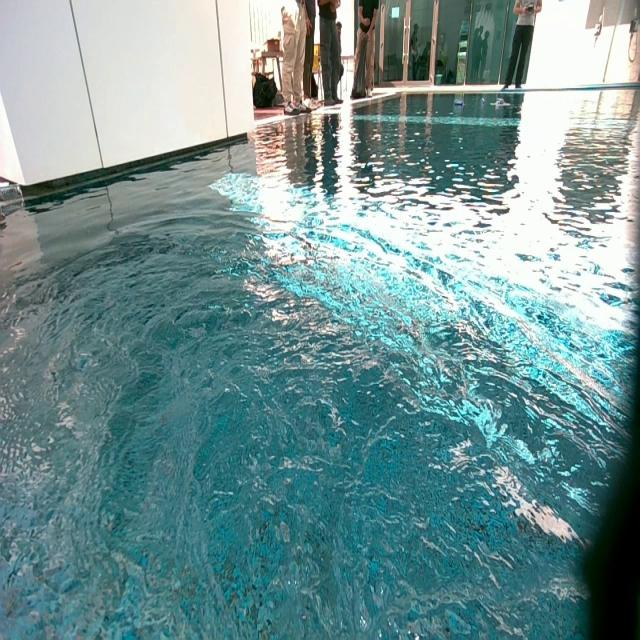Cans: (495, 98, 505, 107), (454, 100, 464, 108), (482, 98, 487, 105)
